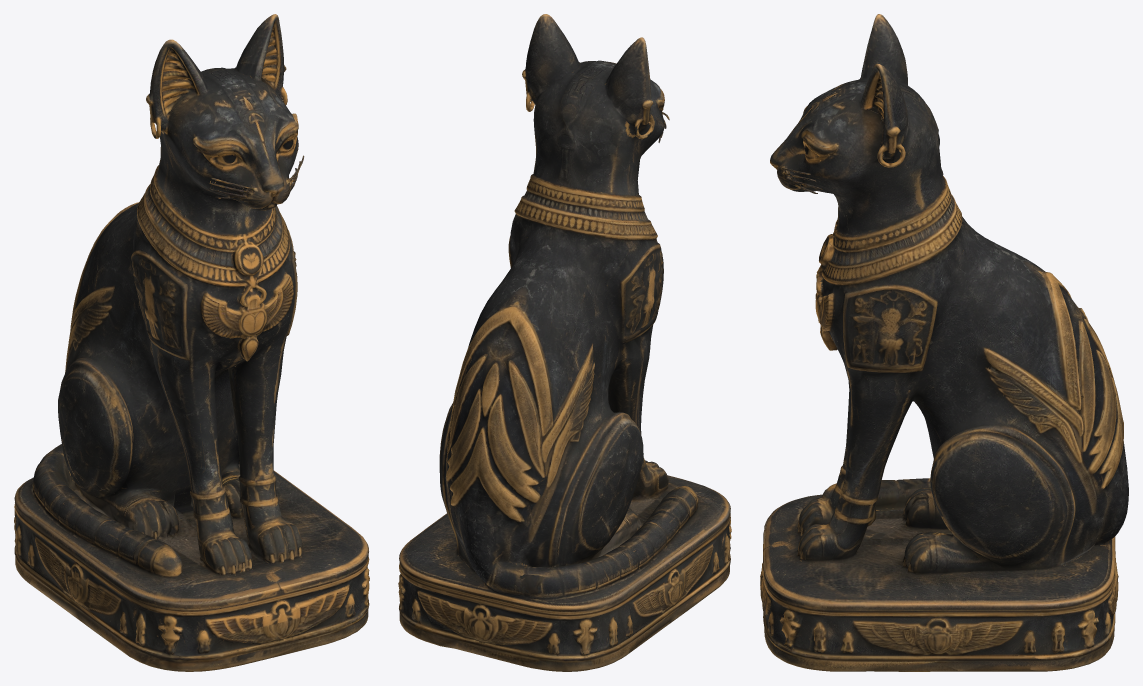
The model's file is WF_EgyptianTombV2_BastetCat.fbx.
3 views of the same model, side by side, from view 1: azimuth 30°, elevation 25°; view 2: azimuth 150°, elevation 25°; view 3: azimuth 270°, elevation 25° (orthographic). The views are drawn at different scales.
Parts seen in each view (by area): view 1: Mesh1.0; view 2: Mesh1.0; view 3: Mesh1.0.
Boxes of the visible parts, x1,y1,x2,y2 form: Mesh1.0: (14,14,369,671); Mesh1.0: (398,14,731,671); Mesh1.0: (760,14,1128,671).
Bounding box in the file's own units: 81.01 × 191 × 110.
Materials: 1 (1 with a texture image).
